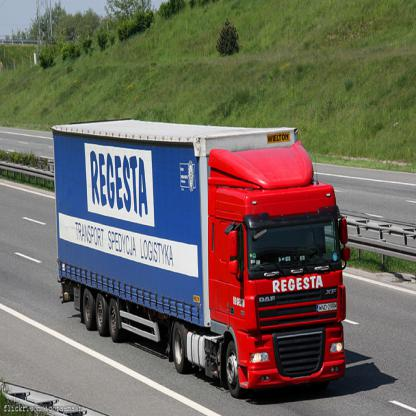Truck: (52, 107, 350, 399)
